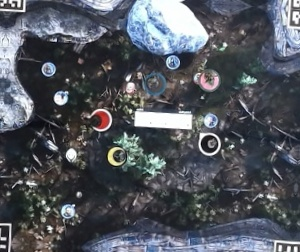black: (198, 132, 222, 156)
brown_turquoise: (142, 70, 167, 94)
lime_green_violet: (105, 144, 129, 168)
pink_green: (196, 66, 220, 91)
red: (88, 107, 112, 131)
